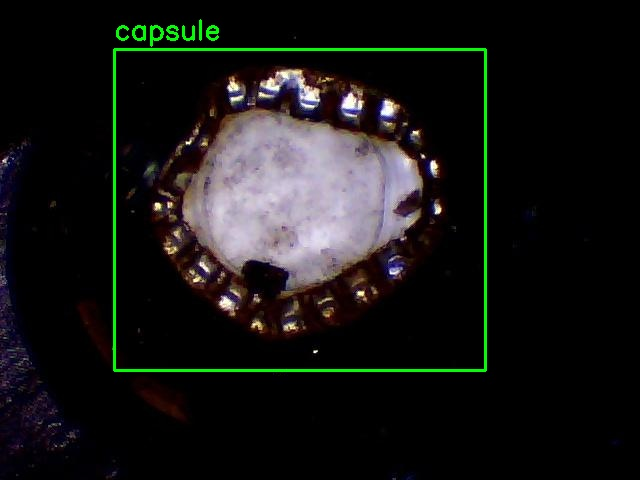capsule: (114, 49, 485, 370)
